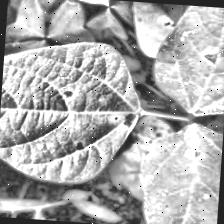ALS: (0, 39, 144, 187), (134, 122, 223, 224), (157, 3, 224, 119)
